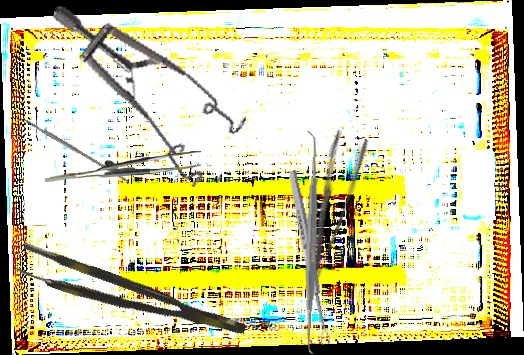Dressing Forceps: (280, 128, 373, 297)
Scalpel Handle: (24, 117, 130, 184)
Spatula Surgical: (294, 131, 328, 354)
Speculum: (21, 4, 262, 196)
Surgical Spoon: (286, 169, 332, 346)
Tissue Forceps: (14, 241, 248, 355), (45, 151, 201, 182)
